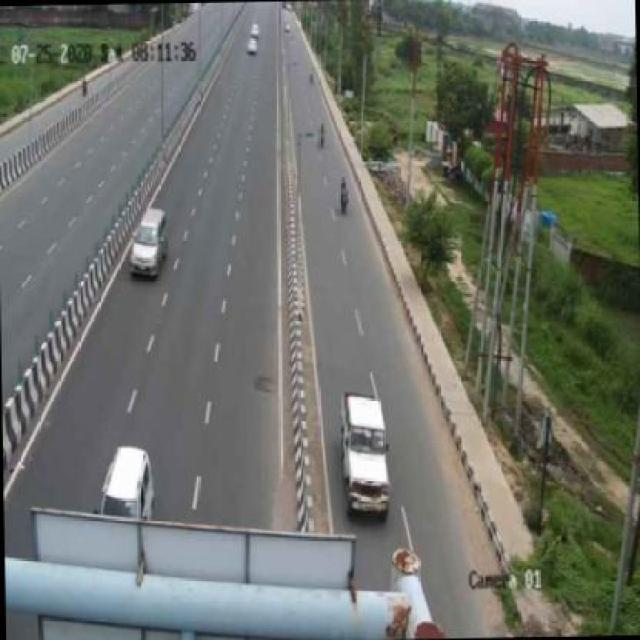car: (342, 380, 388, 517), (92, 437, 162, 517), (126, 203, 176, 280)
